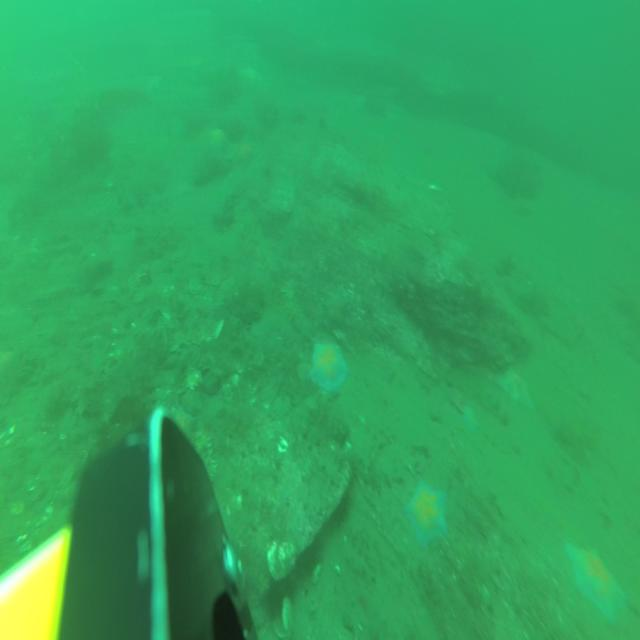holothurian: (195, 428, 216, 500)
scallop: (275, 595, 295, 639)
starfish: (566, 540, 623, 624), (405, 480, 447, 548), (309, 343, 348, 395), (498, 364, 532, 414), (168, 404, 195, 453), (207, 128, 227, 155), (232, 140, 255, 163)
